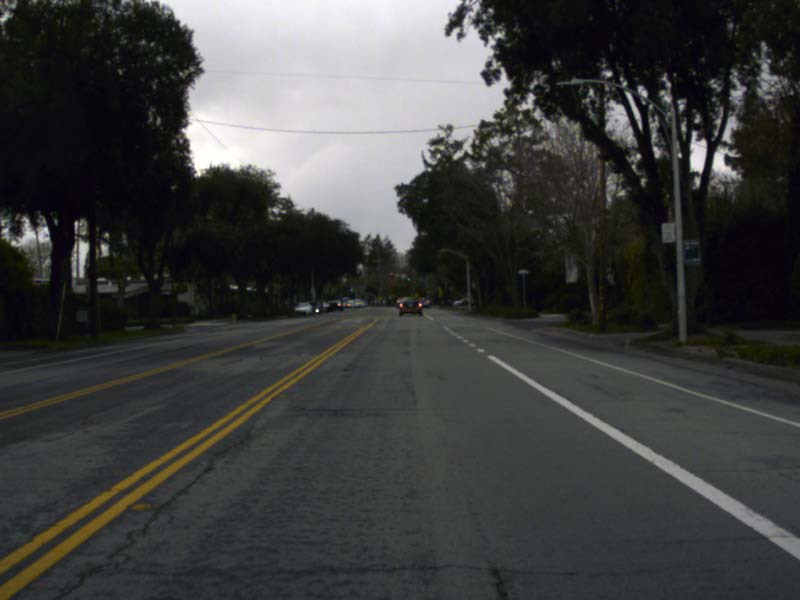Green: (350, 285, 353, 292), (407, 274, 409, 280), (427, 287, 429, 292)
Red: (390, 272, 392, 279)
